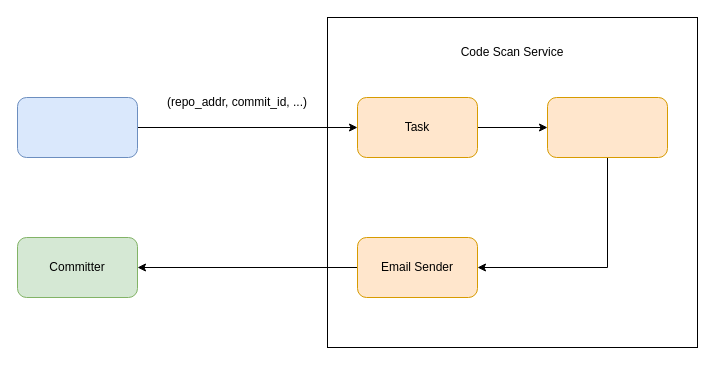
This 715x365 diagram has some shape labels left out. Each missing label, with the centre of its shape:
SAST Scanner: pixel 607 127
Space Jenkins: pixel 77 127
